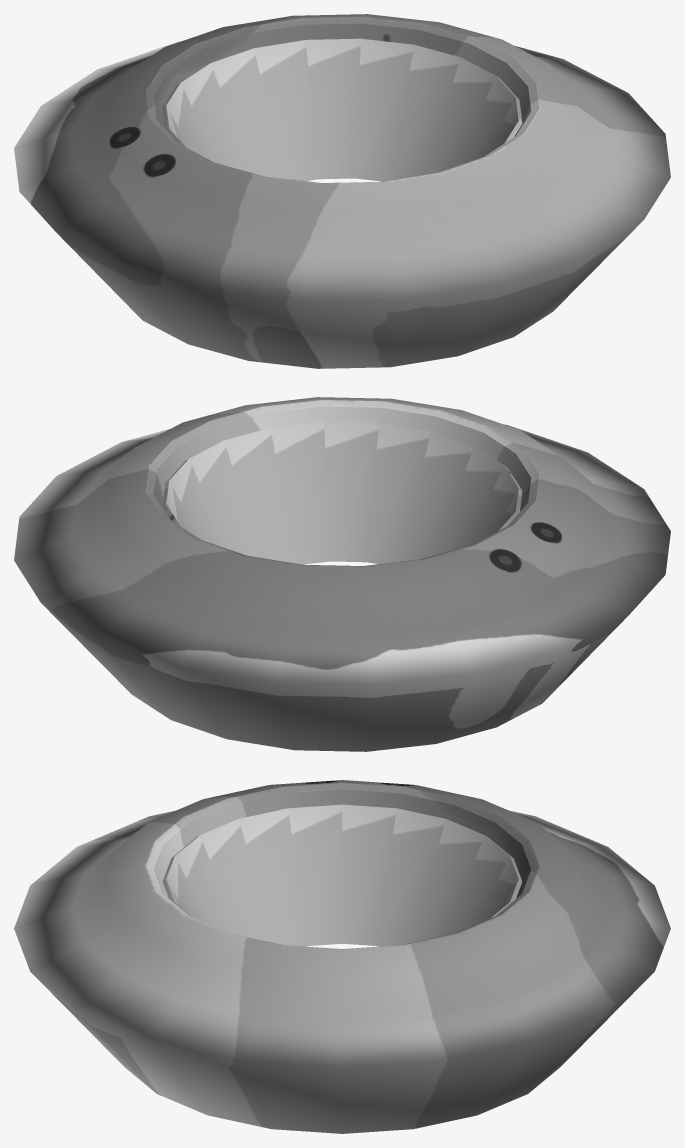
Rendered from emptydrillshooter.fbx.
3 renders of one model, top to bottom at view 1: azimuth 30°, elevation 25°; view 2: azimuth 150°, elevation 25°; view 3: azimuth 270°, elevation 25°, orthographic.
Visible parts, largest first — view 1: turtle2_GEO; view 2: turtle2_GEO; view 3: turtle2_GEO.
Boxes of the visible parts, box(x1,y1,x2,y2) form: turtle2_GEO: box(14, 14, 670, 368); turtle2_GEO: box(14, 397, 670, 751); turtle2_GEO: box(14, 780, 670, 1133).
Size of the model in its own units: 4.89 by 1.4 by 4.89.
Materials: 1 (1 with a texture image).
